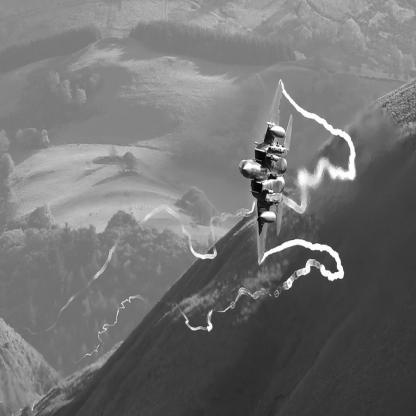F15: (240, 80, 294, 266)
